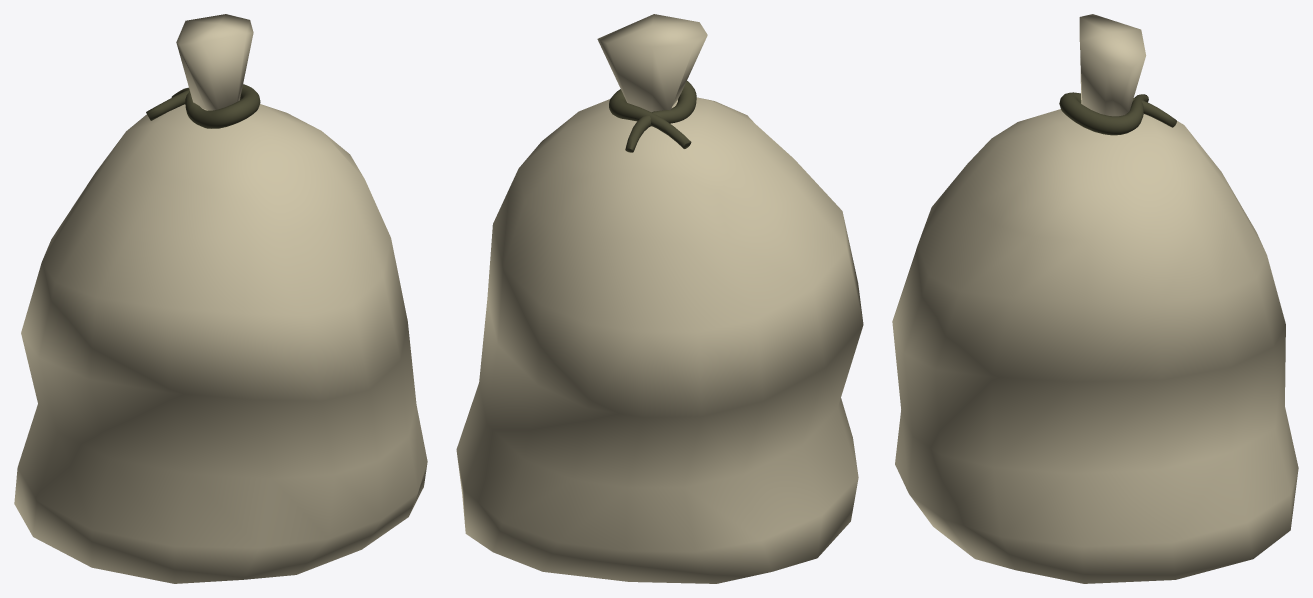
File: Bag.fbx
The picture shows the model from 3 angles, left to right: view 1: azimuth 30°, elevation 25°; view 2: azimuth 150°, elevation 25°; view 3: azimuth 270°, elevation 25°; orthographic projection. The views are drawn at different scales.
Visible parts, largest first — view 1: bag L.001; view 2: bag L.001; view 3: bag L.001.
Part boxes in pixels (x1=…): bag L.001: x1=14, y1=14, x2=427, y2=583; bag L.001: x1=456, y1=14, x2=863, y2=583; bag L.001: x1=892, y1=14, x2=1298, y2=583.
Size of the model in its own units: 94.34 by 128 by 96.38.
